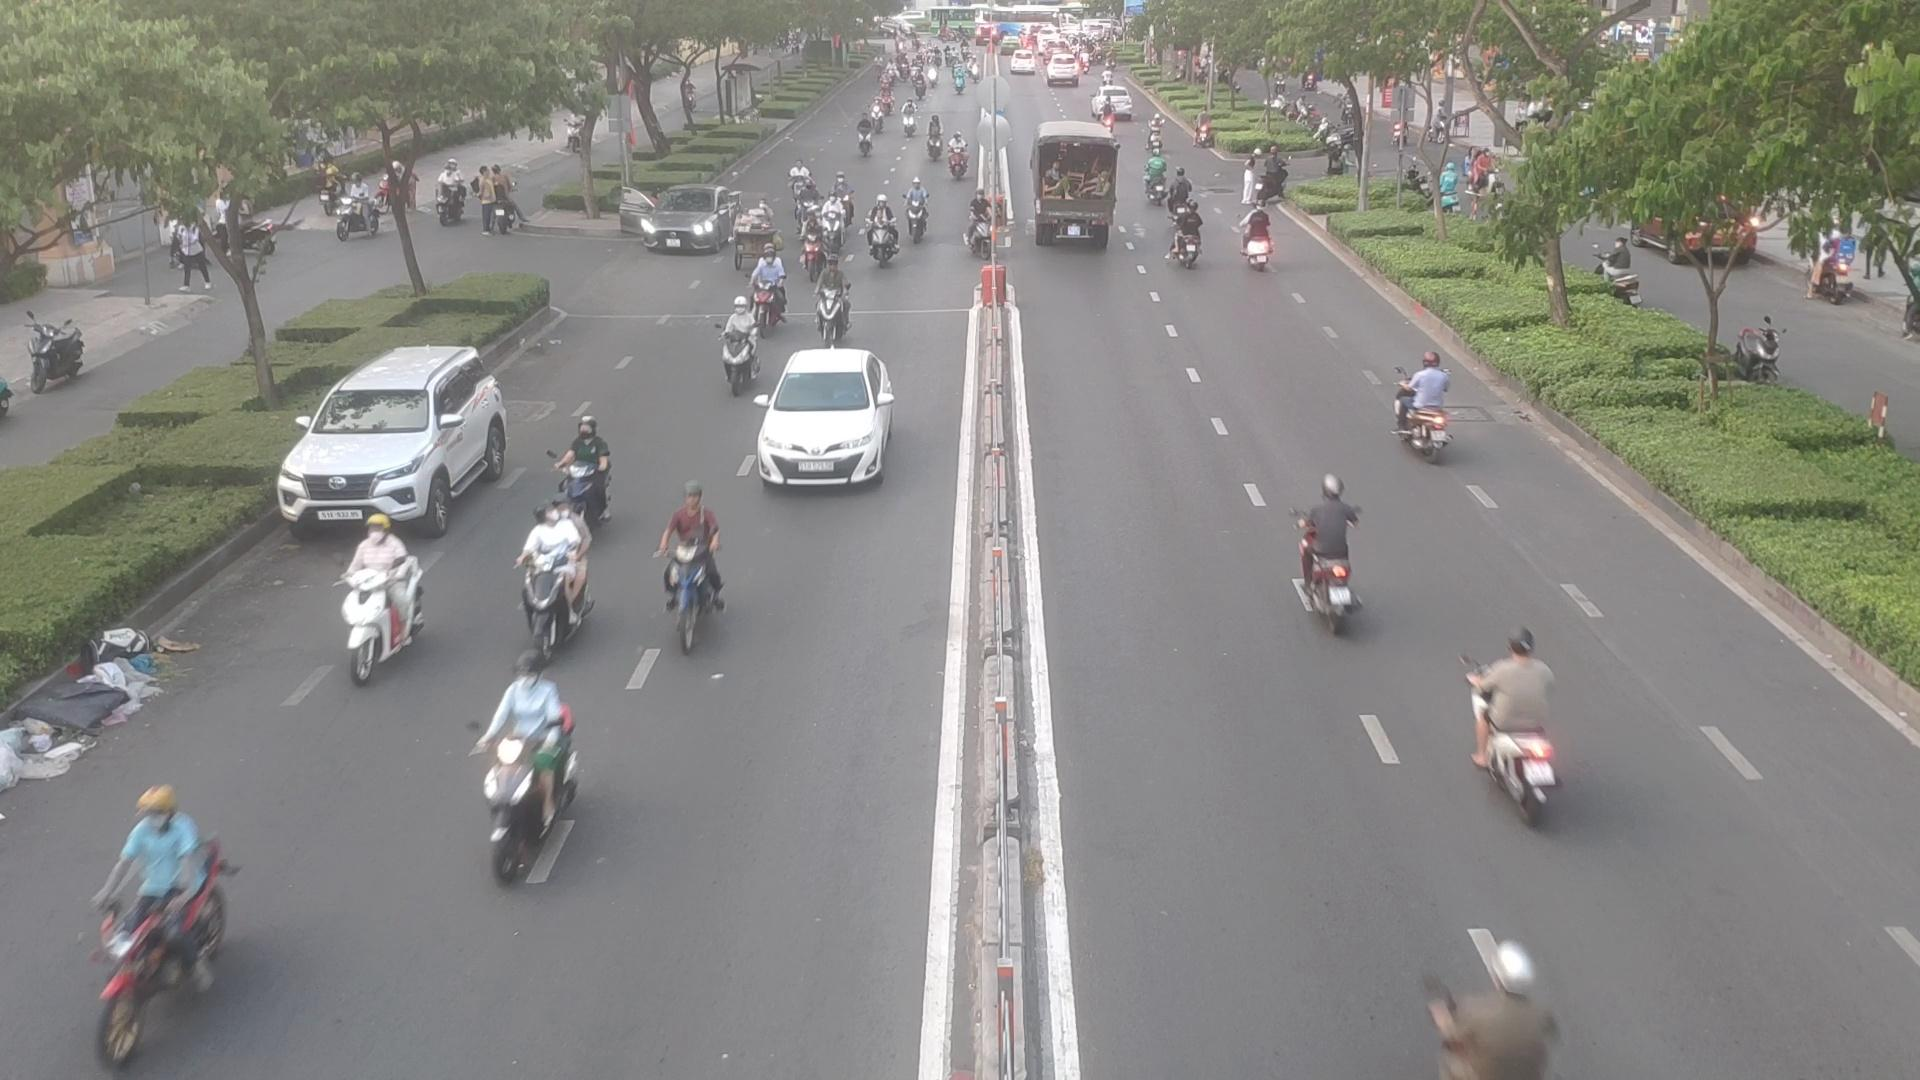car: (285, 343, 521, 529), (748, 351, 902, 489), (615, 191, 745, 258)
motorbike: (73, 793, 225, 1062), (471, 670, 591, 869), (1458, 634, 1575, 820), (335, 517, 436, 678), (655, 498, 741, 650), (1284, 487, 1373, 628), (521, 510, 604, 655), (1385, 351, 1460, 454), (543, 425, 617, 524), (713, 309, 767, 386), (814, 272, 858, 342), (723, 212, 774, 273), (745, 260, 789, 330), (862, 200, 902, 266), (1168, 204, 1207, 266), (1241, 204, 1276, 269), (1145, 158, 1185, 206), (905, 183, 938, 241), (944, 138, 977, 183)
